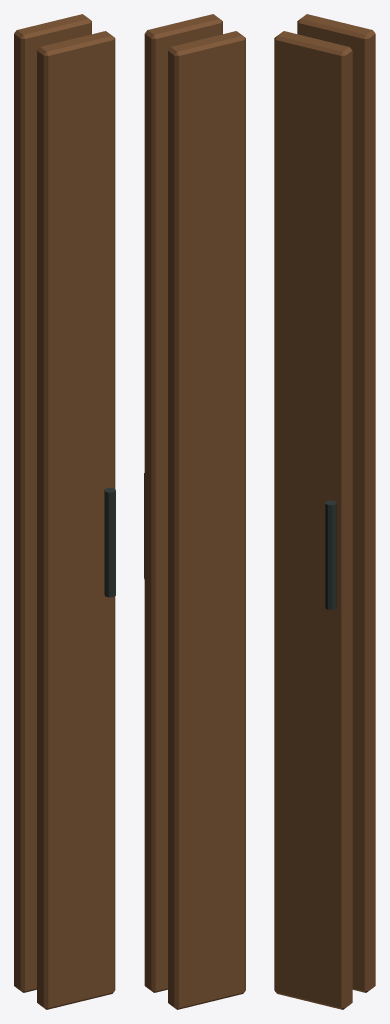
Rendered from hall_door_leaves.glb.
3 views of the same model, side by side, from view 1: azimuth 30°, elevation 25°; view 2: azimuth 210°, elevation 25°; view 3: azimuth 330°, elevation 25° (orthographic).
Visible parts, largest first — view 1: leaves; view 2: leaves; view 3: leaves.
Boxes of the visible parts, x1,y1,x2,y2 form: leaves: [14, 14, 115, 1009]; leaves: [144, 14, 245, 1009]; leaves: [274, 14, 375, 1009].
Size of the model in its own units: 0.25 by 3.2 by 0.238.
